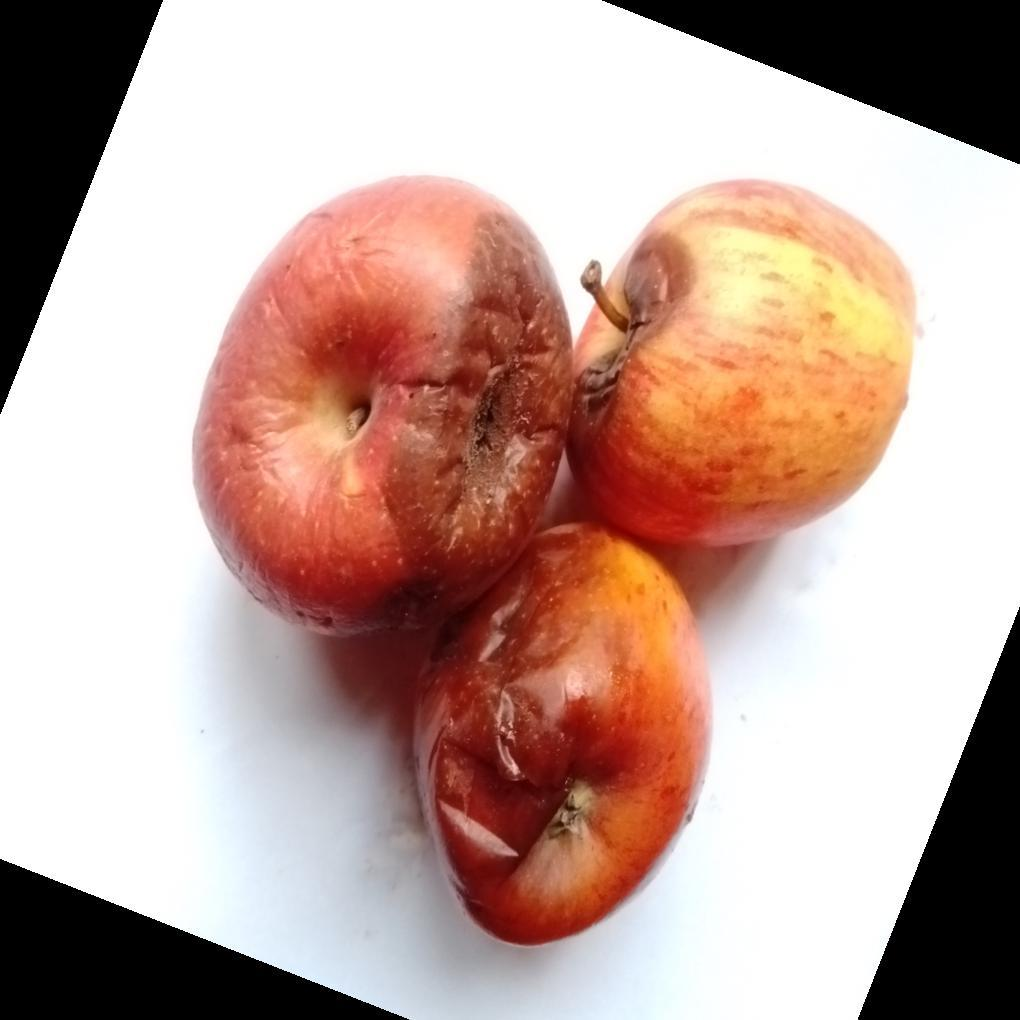FreshOrange: (194, 177, 918, 950)
